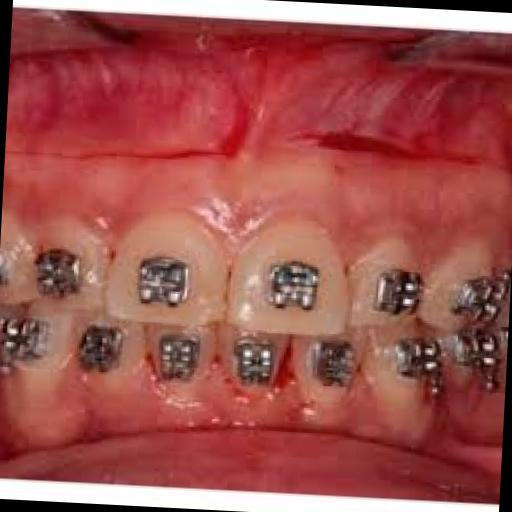correct_brace: (124, 250, 197, 312), (258, 254, 332, 314)
